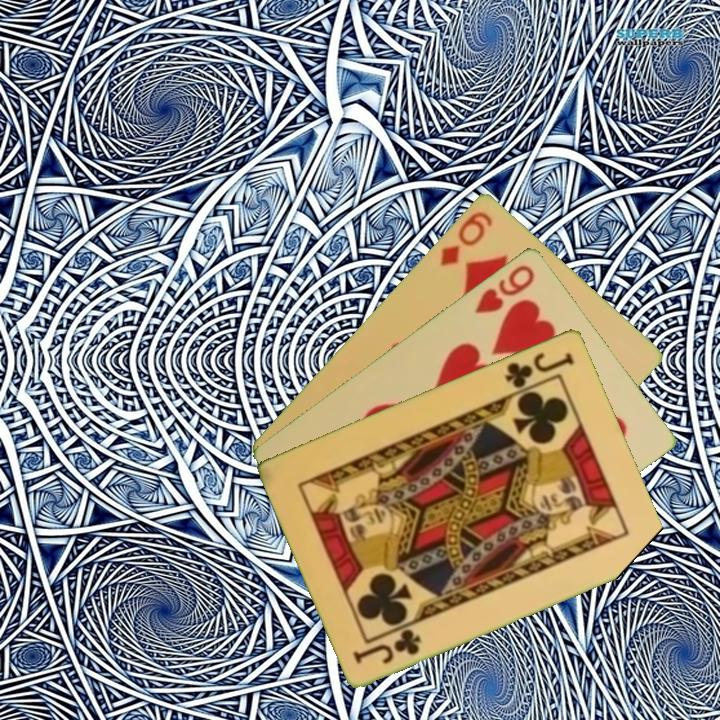6d: (436, 207, 495, 269)
9h: (471, 260, 538, 316)
Jc: (501, 348, 577, 391), (349, 624, 424, 666)
